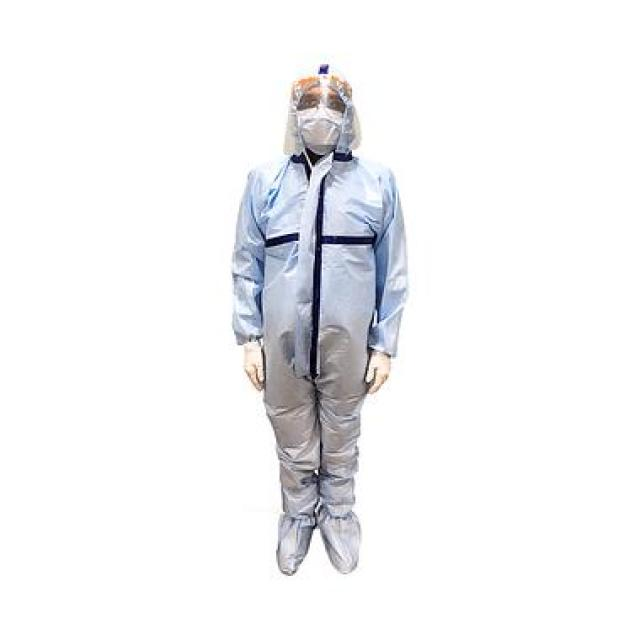Coverall: (204, 45, 451, 640)
Mask: (290, 89, 360, 162)
